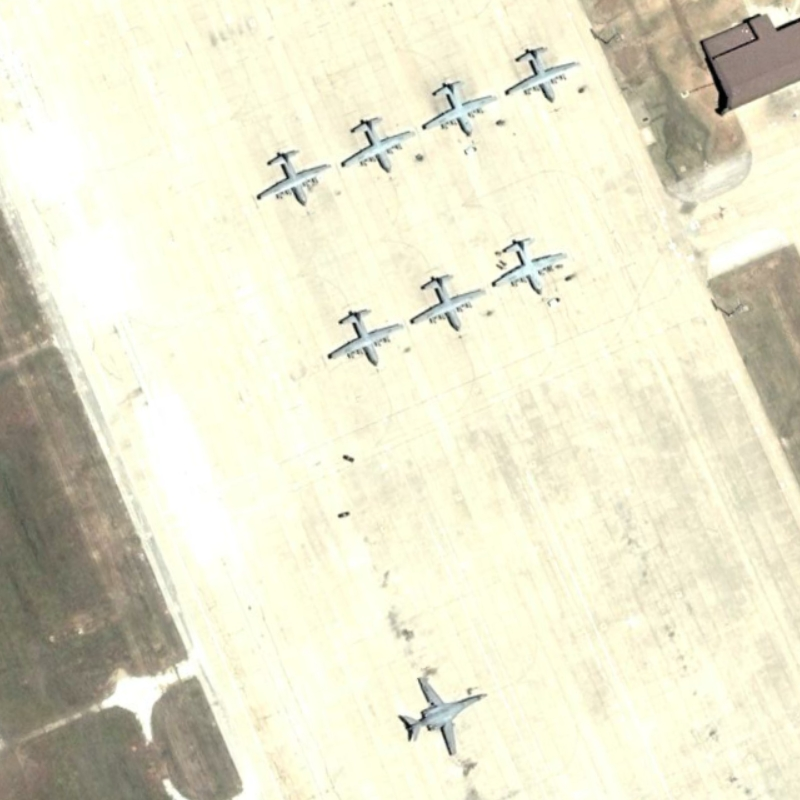A10: (398, 665, 493, 758)
A2: (487, 229, 575, 306), (407, 266, 487, 344), (417, 71, 499, 145), (253, 142, 336, 213), (321, 308, 404, 376), (337, 111, 417, 179), (504, 42, 581, 111)
